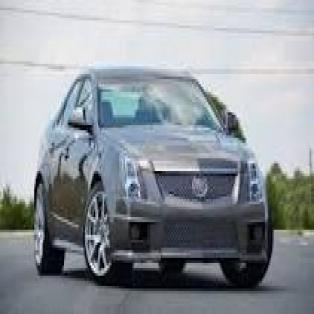Auto: (33, 69, 274, 291)
